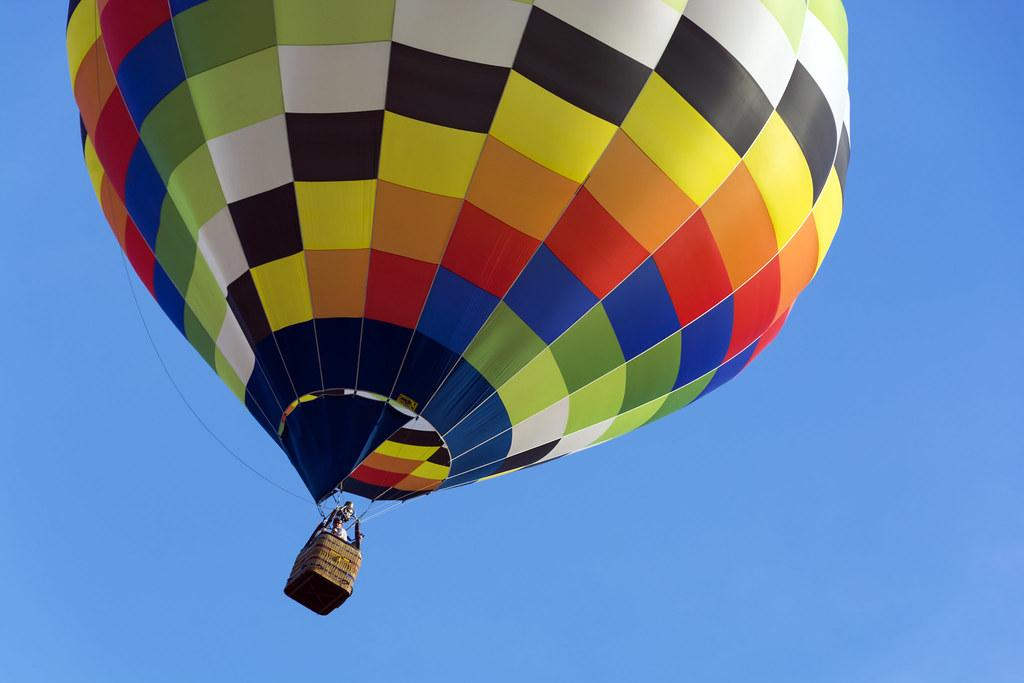balloon: (64, 1, 853, 615)
